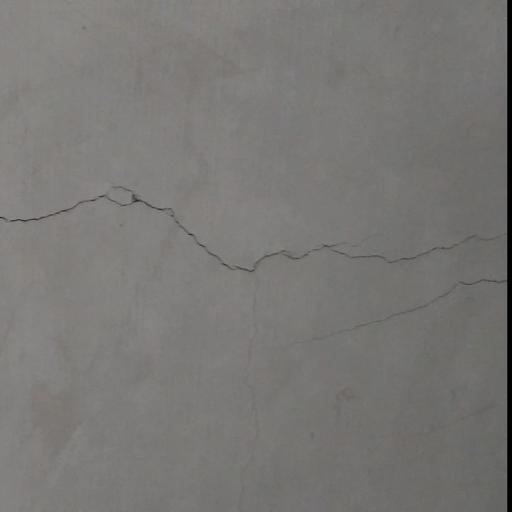minor_crack: (0, 182, 512, 273), (288, 274, 512, 334), (228, 265, 264, 508), (370, 393, 512, 445)
